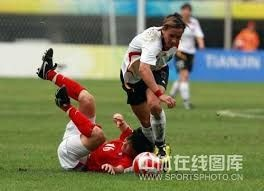falling: (36, 40, 166, 174)
